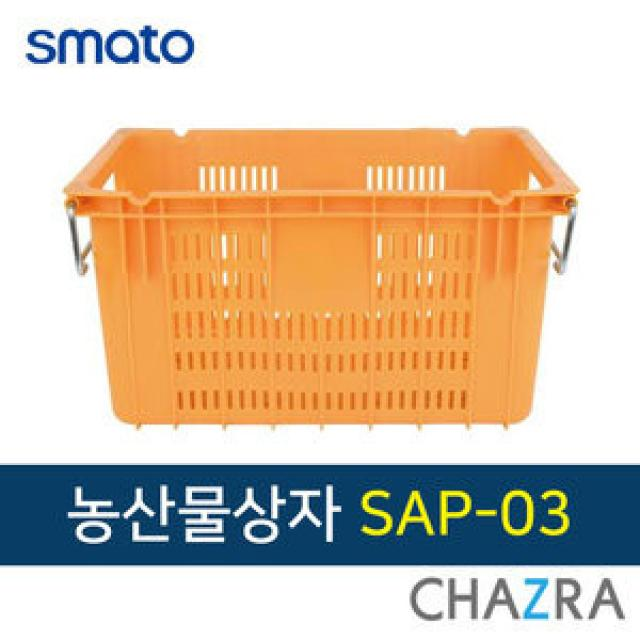basket: (66, 130, 580, 423)
